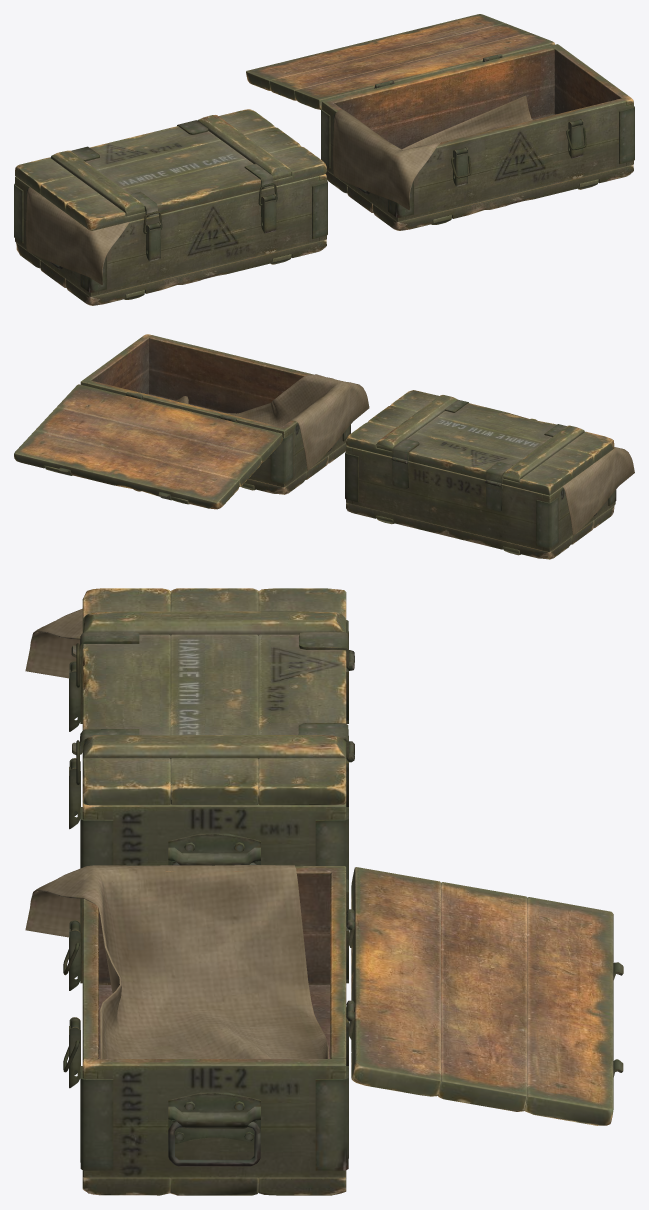
The model's file is crate.glb.
3 views of the same model, one above another, from view 1: azimuth 30°, elevation 25°; view 2: azimuth 150°, elevation 25°; view 3: azimuth 270°, elevation 25° (orthographic). The views are drawn at different scales.
Visible parts, largest first — view 1: old_military_crate_b, old_military_crate_lid_a, old_military_crate_a, old_military_crate_lid_b, old_military_crate_cloth_b, old_military_crate_cloth_a, old_military_crate_latch_a, old_military_crate_latch_b; view 2: old_military_crate_lid_b, old_military_crate_lid_a, old_military_crate_a, old_military_crate_b, old_military_crate_cloth_b, old_military_crate_cloth_a; view 3: old_military_crate_lid_a, old_military_crate_lid_b, old_military_crate_b, old_military_crate_cloth_b, old_military_crate_a, old_military_crate_cloth_a, old_military_crate_latch_b, old_military_crate_latch_a.
Part boxes in pixels (x1,y1,x2,y2): old_military_crate_b: [321, 44, 634, 230]; old_military_crate_lid_a: [15, 109, 326, 230]; old_military_crate_a: [14, 174, 327, 305]; old_military_crate_lid_b: [246, 14, 554, 109]; old_military_crate_cloth_b: [333, 95, 532, 209]; old_military_crate_cloth_a: [26, 187, 129, 284]; old_military_crate_latch_a: [146, 194, 276, 261]; old_military_crate_latch_b: [453, 119, 583, 186]; old_military_crate_lid_b: [14, 384, 282, 509]; old_military_crate_lid_a: [346, 390, 614, 495]; old_military_crate_a: [345, 446, 616, 559]; old_military_crate_b: [80, 334, 350, 494]; old_military_crate_cloth_b: [174, 374, 369, 470]; old_military_crate_cloth_a: [562, 447, 634, 535]; old_military_crate_lid_a: [71, 588, 354, 805]; old_military_crate_lid_b: [346, 867, 623, 1125]; old_military_crate_b: [80, 866, 354, 1195]; old_military_crate_cloth_b: [25, 865, 328, 1058]; old_military_crate_a: [80, 620, 354, 889]; old_military_crate_cloth_a: [25, 608, 82, 678]; old_military_crate_latch_b: [69, 920, 80, 1088]; old_military_crate_latch_a: [69, 661, 80, 829].
Bounding box in the file's own units: 1.82 × 0.3009 × 0.9757.
1 material, 1 textured.
